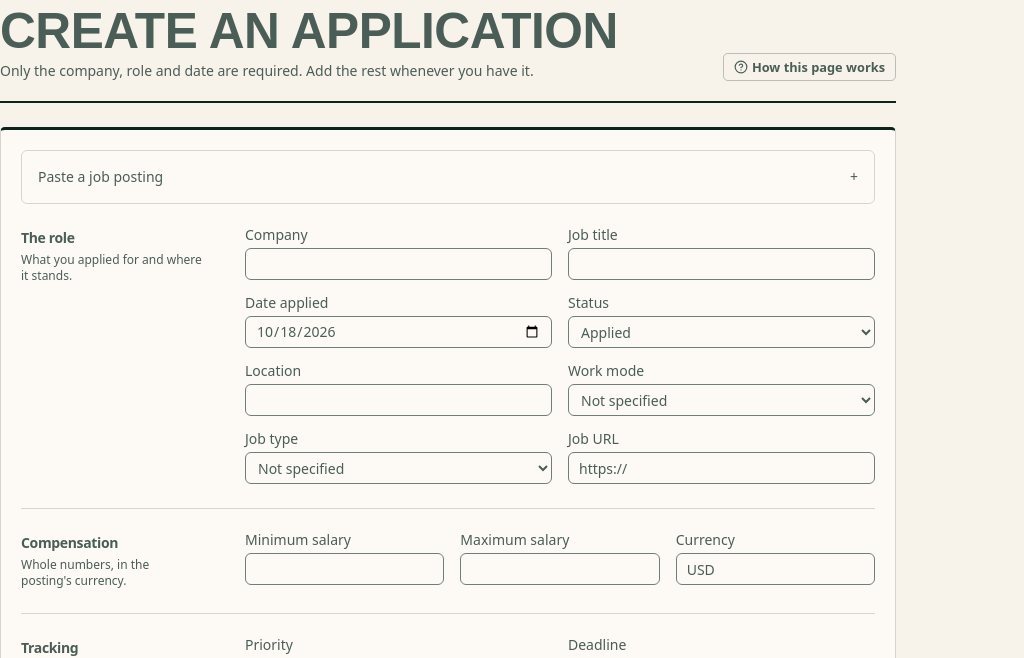
Test: ApplicationFormPage input guardrails › rejects a symbols-only company name
Type "!!!" into the field labelled "Company".
click(398, 264); type("!!!")  # box top-left (245, 248), bottom-right (552, 280)
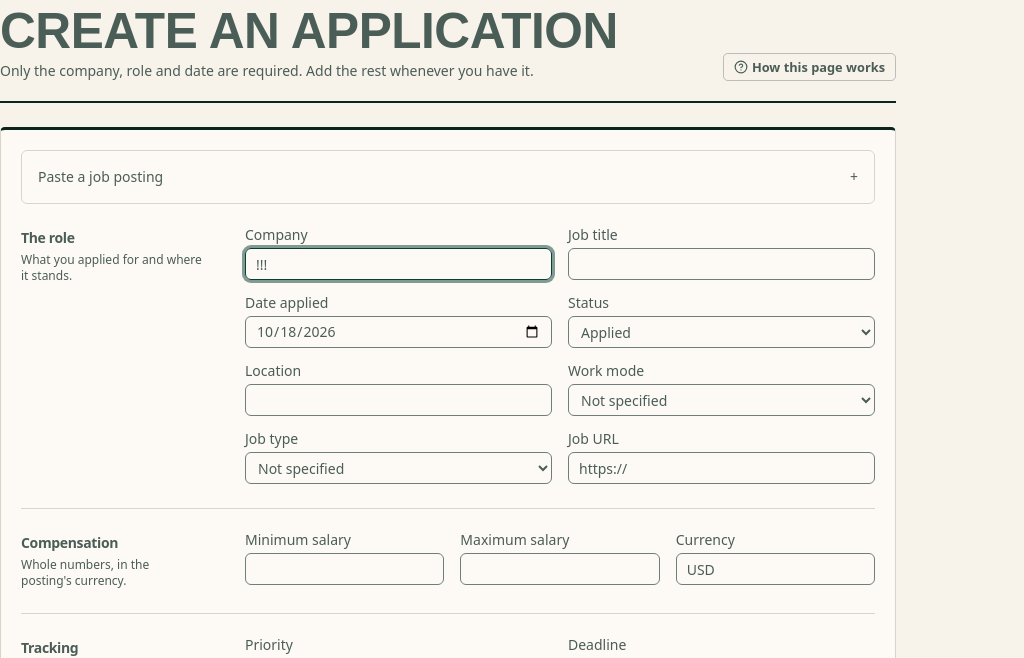
Type "Engineer" into the field labelled "Job title".
click(722, 264); type("Engineer")  # box top-left (568, 248), bottom-right (875, 280)
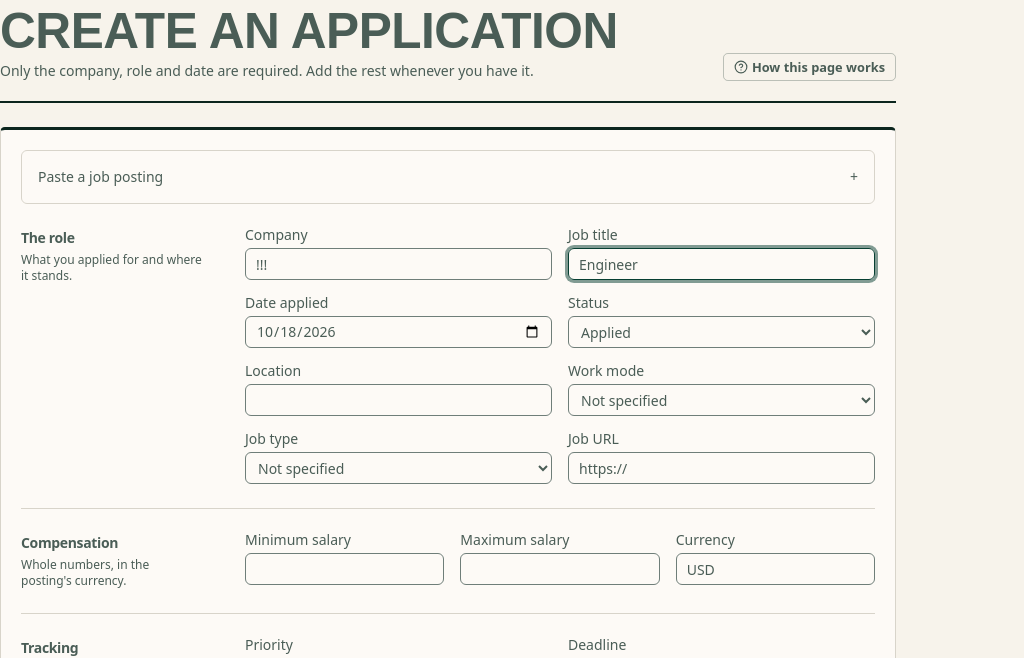
Type "2026-01-05" into the date field labelled "Date applied".
click(398, 332); type("2026-01-05")  # box top-left (245, 316), bottom-right (552, 348)
(page scrolled)
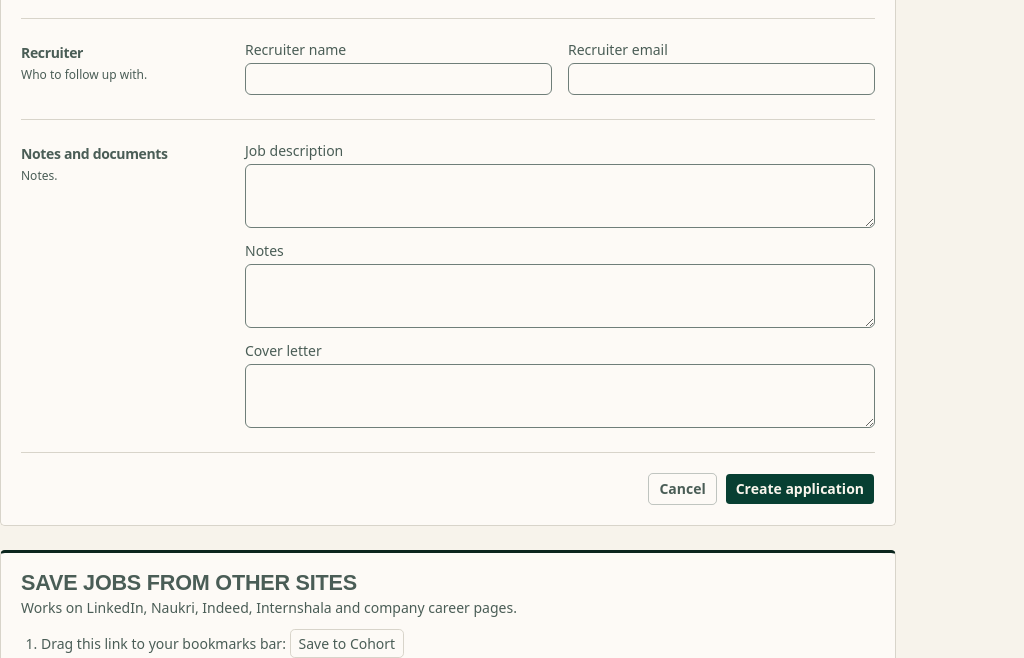
Click the button "Create application".
click(800, 489)  # box top-left (725, 473), bottom-right (875, 505)
(page scrolled)
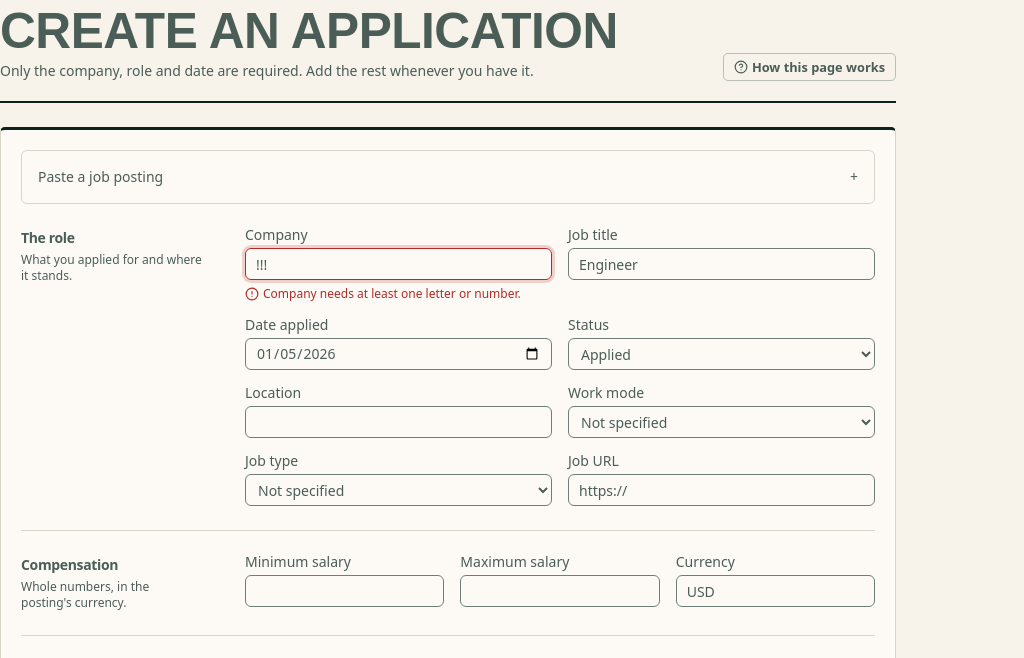
Check: the text "Company needs at least one letter or number." is shown, box top-left (245, 286), bottom-right (552, 302)
